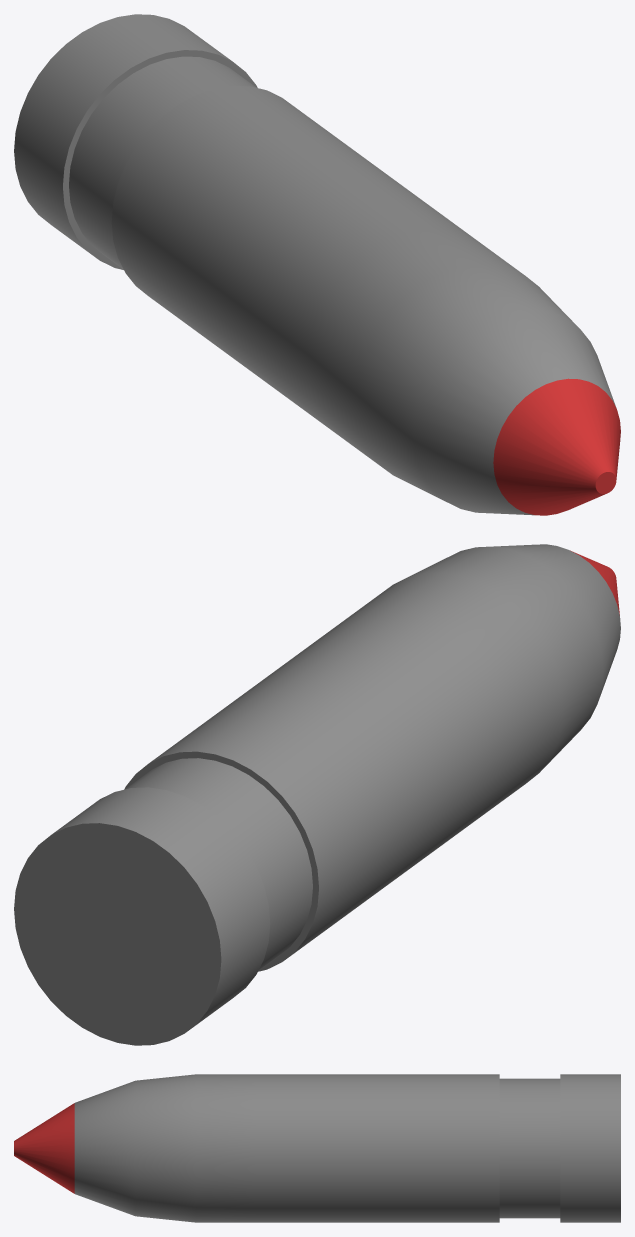
Rendered from bullet_s.fbx.
3 renders of one model, top to bottom at view 1: azimuth 30°, elevation 25°; view 2: azimuth 150°, elevation 25°; view 3: azimuth 270°, elevation 25°, orthographic. The views are drawn at different scales.
Visible parts, largest first — view 1: bullet; view 2: bullet; view 3: bullet.
Part boxes in pixels (bbox=[...]): bullet: bbox=[14, 14, 620, 515]; bullet: bbox=[14, 544, 620, 1045]; bullet: bbox=[14, 1074, 620, 1222].
Size of the model in its own units: 70 by 70 by 285.
